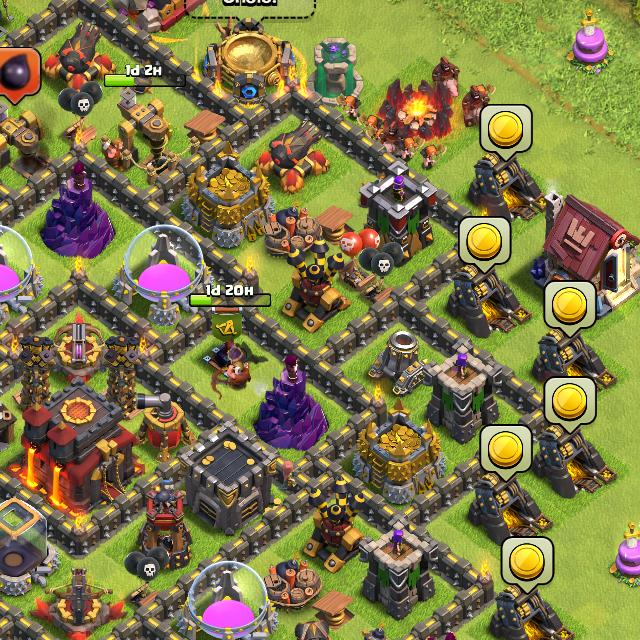FullElixirNegro: (0, 47, 44, 107)
coin: (479, 104, 535, 164), (500, 536, 554, 595), (460, 216, 512, 275), (480, 423, 532, 482), (543, 281, 596, 338), (544, 378, 594, 434)
